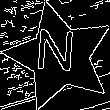N_S: (37, 30, 82, 83)
